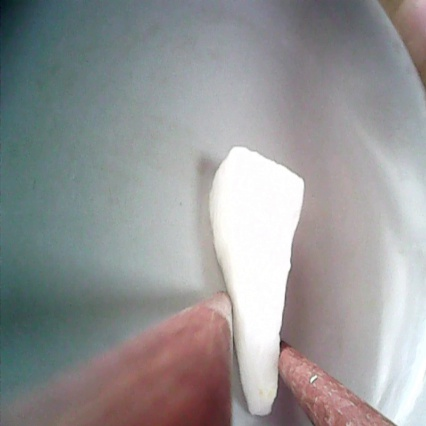white_chinese-yam: (211, 143, 308, 426)
